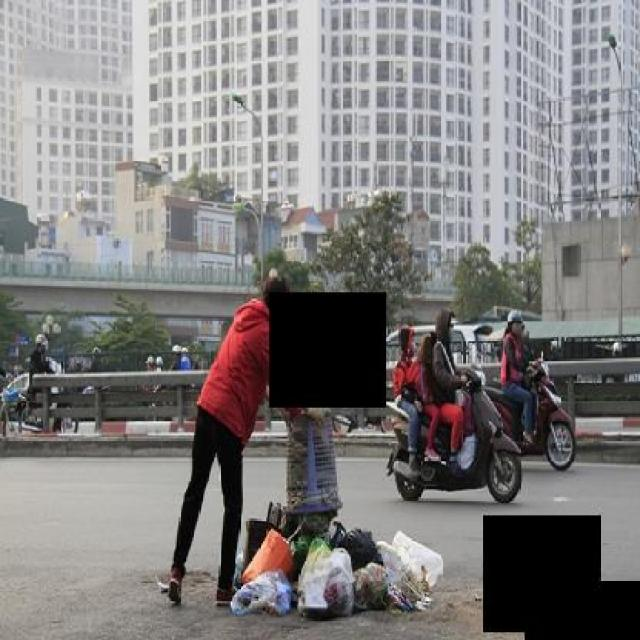plastic bag: (217, 511, 448, 617), (298, 540, 356, 622), (235, 568, 292, 615), (354, 560, 388, 612)
